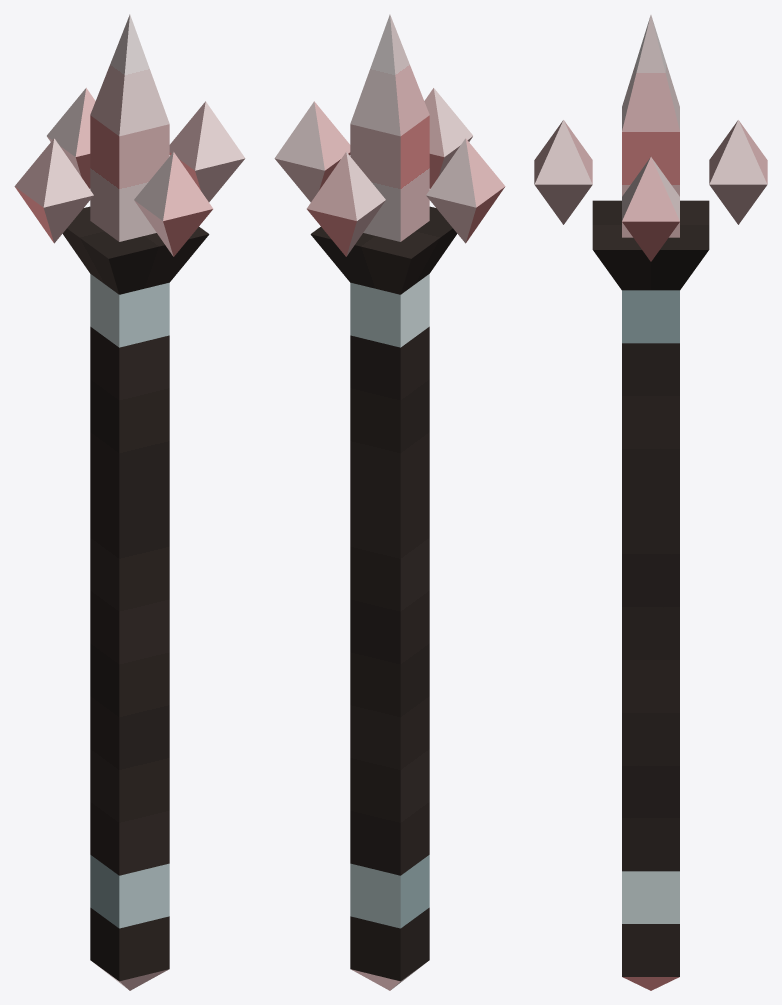
Rendered from wand_aum.obj.
3 views of the same model, side by side, from view 1: azimuth 30°, elevation 25°; view 2: azimuth 150°, elevation 25°; view 3: azimuth 270°, elevation 25° (orthographic).
Parts seen in each view (by area): view 1: WAND_VAR3_Cube.031; view 2: WAND_VAR3_Cube.031; view 3: WAND_VAR3_Cube.031.
Part boxes in pixels (x1,y1,x2,y2): WAND_VAR3_Cube.031: (14, 14, 245, 990); WAND_VAR3_Cube.031: (274, 14, 505, 990); WAND_VAR3_Cube.031: (534, 15, 767, 990).
Size of the model in its own units: 0.25 by 1.16 by 0.25.
